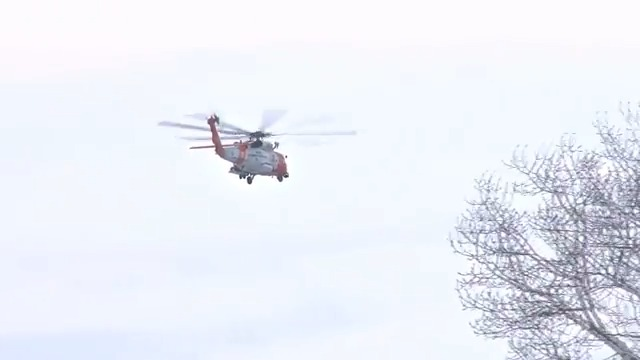helicopter: (163, 94, 348, 188)
